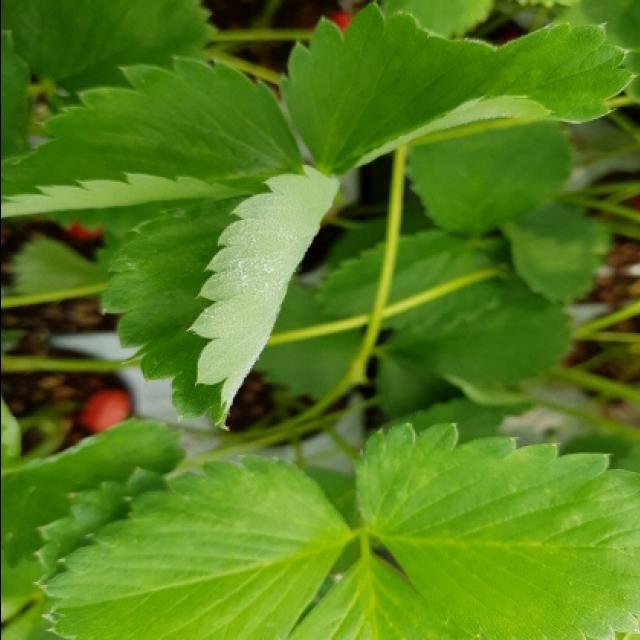Powdery Mildew Leaf: (97, 164, 340, 434)
